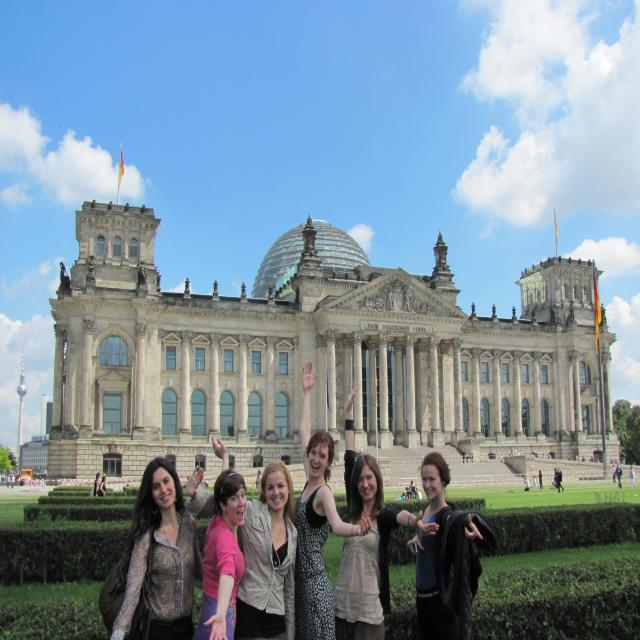body: (334, 385, 441, 639), (284, 358, 374, 640), (97, 455, 227, 640), (186, 460, 299, 640), (404, 452, 502, 640), (194, 435, 247, 640), (350, 288, 450, 321), (85, 248, 97, 288), (1, 471, 46, 481), (58, 257, 70, 294), (136, 256, 147, 291), (596, 300, 608, 332), (565, 296, 576, 328), (90, 472, 100, 497), (612, 464, 622, 489), (96, 475, 107, 497), (556, 467, 564, 493), (628, 465, 635, 488), (184, 472, 193, 489), (390, 492, 406, 501), (406, 480, 415, 496), (256, 470, 262, 493), (609, 456, 626, 464), (554, 468, 560, 490), (413, 487, 422, 501), (533, 472, 539, 491), (538, 470, 543, 490), (524, 477, 530, 491), (529, 450, 539, 458), (612, 464, 616, 483), (6, 474, 10, 489), (11, 474, 15, 489), (589, 456, 594, 468), (462, 450, 466, 463), (465, 450, 469, 462), (390, 434, 394, 446), (596, 458, 600, 468), (546, 453, 552, 459), (359, 446, 364, 453), (471, 452, 474, 463), (508, 451, 514, 456), (500, 454, 503, 463), (549, 454, 552, 462), (576, 455, 579, 461), (582, 455, 585, 461), (103, 472, 106, 477), (407, 487, 411, 490), (517, 452, 520, 456), (542, 454, 545, 458), (515, 451, 517, 456), (568, 456, 570, 460), (524, 452, 528, 454)
